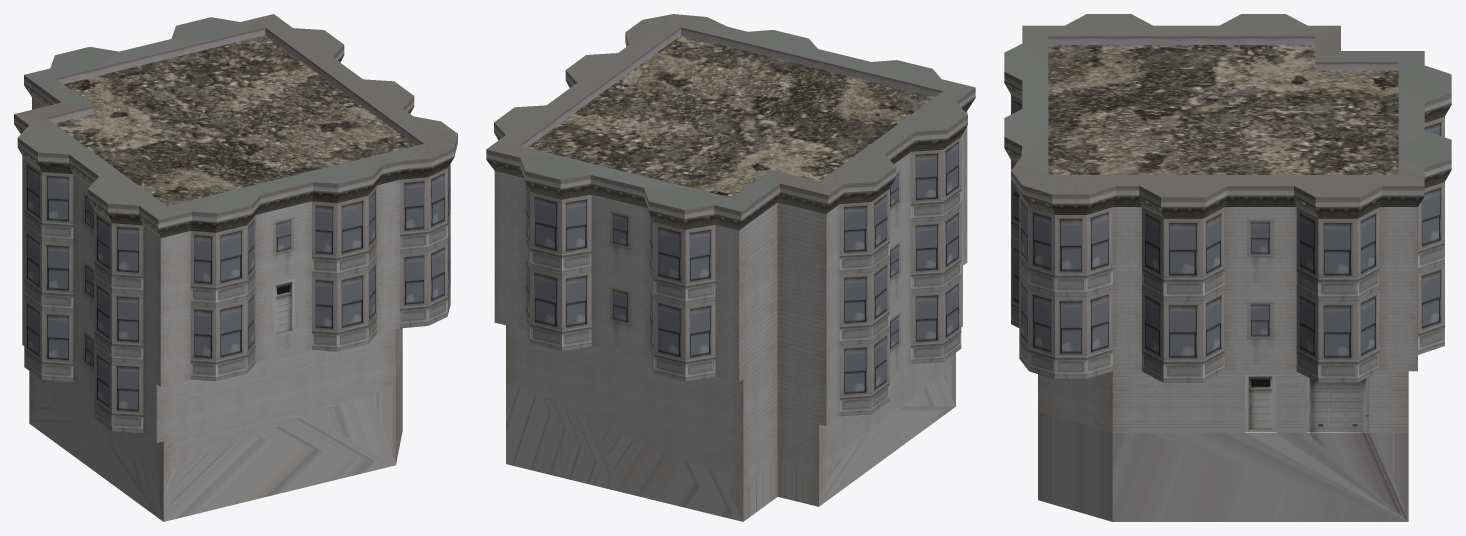
The model's file is vicstuff_sfe04.obj.
3 views of the same model, side by side, from view 1: azimuth 30°, elevation 25°; view 2: azimuth 150°, elevation 25°; view 3: azimuth 270°, elevation 25° (orthographic). The views are drawn at different scales.
Parts seen in each view (by area): view 1: vicstuff_sfe04; view 2: vicstuff_sfe04; view 3: vicstuff_sfe04.
Boxes of the visible parts, left/top/right/bottom form: vicstuff_sfe04: left=14, top=14, right=457, bottom=521; vicstuff_sfe04: left=486, top=14, right=975, bottom=521; vicstuff_sfe04: left=1004, top=14, right=1451, bottom=521.
Bounding box in the file's own units: 26.84 × 23.41 × 27.69.
8 materials, 8 textured.
